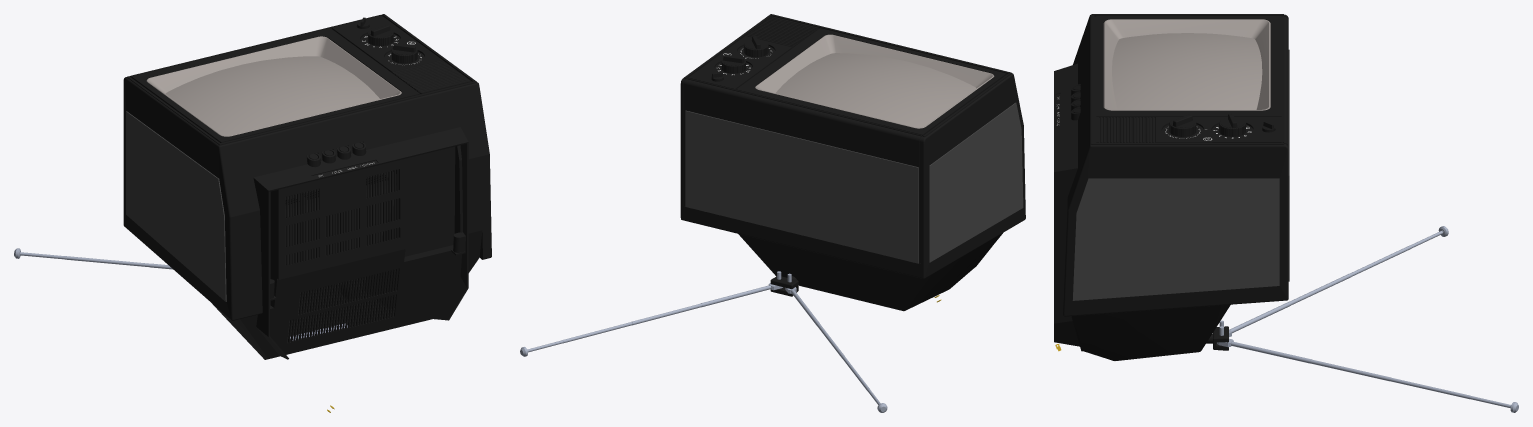
Rendered from CRTTV.glb.
3 views of the same model, side by side, from view 1: azimuth 30°, elevation 25°; view 2: azimuth 150°, elevation 25°; view 3: azimuth 270°, elevation 25° (orthographic). The views are drawn at different scales.
Bounding box in the file's own units: 0.6 × 0.4679 × 0.6544.
